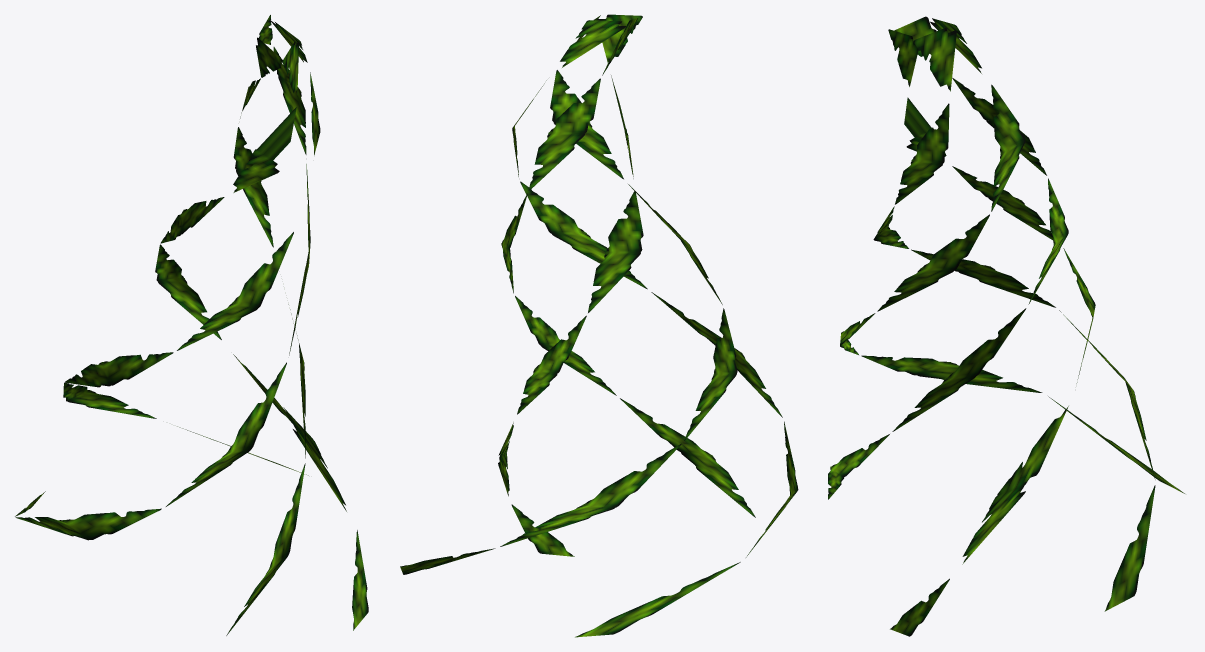
File: SeaWeed.obj
3 renders of one model, left to right at view 1: azimuth 30°, elevation 25°; view 2: azimuth 150°, elevation 25°; view 3: azimuth 270°, elevation 25°, orthographic. The views are drawn at different scales.
Visible parts, largest first — view 1: Group1; view 2: Group1; view 3: Group1.
Boxes of the visible parts, x1=… form: Group1: x1=15, y1=15, x2=368, y2=635; Group1: x1=400, y1=14, x2=798, y2=637; Group1: x1=828, y1=16, x2=1184, y2=636.
Size of the model in its own units: 56.25 by 96.5 by 54.5.
1 material, 1 textured.
